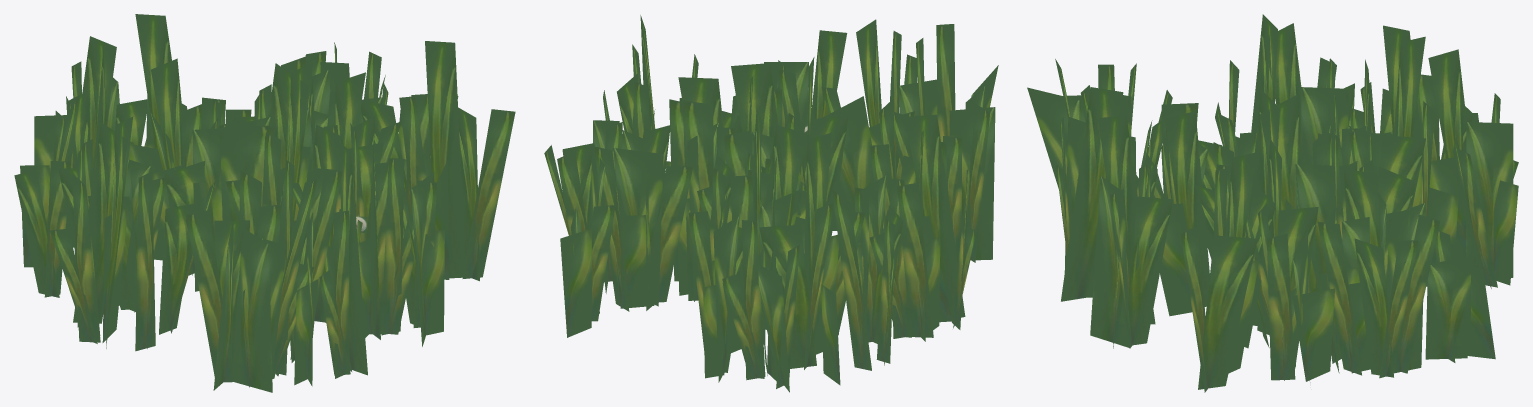
File: Grass06.fbx
3 renders of one model, left to right at view 1: azimuth 30°, elevation 25°; view 2: azimuth 150°, elevation 25°; view 3: azimuth 270°, elevation 25°, orthographic. The views are drawn at different scales.
Parts seen in each view (by area): view 1: Grass06_A, Grass06_B; view 2: Grass06_A, Grass06_B; view 3: Grass06_A, Grass06_B.
Boxes of the visible parts, bbox=[...] form: Grass06_A: bbox=[14, 14, 515, 392]; Grass06_B: bbox=[150, 56, 401, 275]; Grass06_A: bbox=[544, 15, 998, 392]; Grass06_B: bbox=[646, 63, 830, 329]; Grass06_A: bbox=[1027, 14, 1518, 392]; Grass06_B: bbox=[1195, 89, 1415, 347].
Size of the model in its own units: 185 by 191 by 104.
